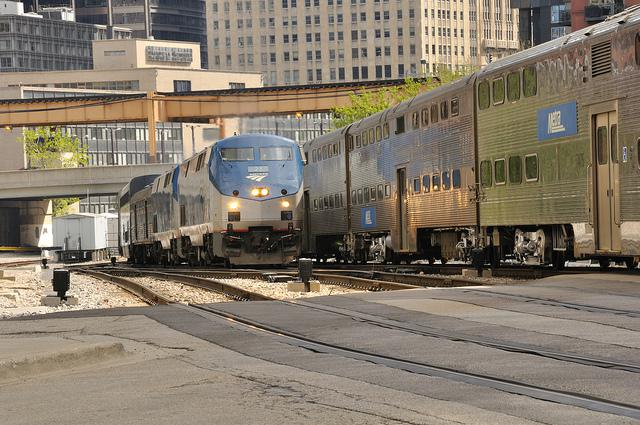Train: (302, 5, 640, 264), (118, 135, 306, 272)
